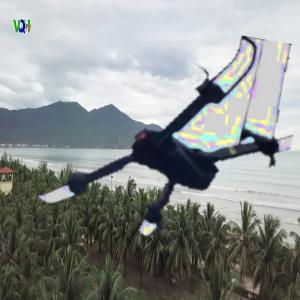drone: (39, 25, 292, 278)
